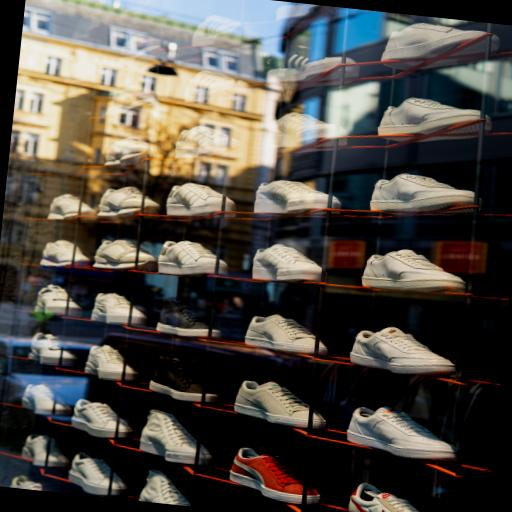shoe: (347, 407, 456, 460), (350, 328, 455, 375), (382, 23, 485, 69), (378, 98, 480, 142), (362, 250, 465, 293), (230, 448, 303, 504), (370, 174, 474, 213), (235, 381, 309, 427), (139, 410, 197, 464), (245, 315, 315, 353), (252, 244, 322, 282), (69, 453, 127, 495), (278, 112, 347, 147), (150, 356, 202, 402), (72, 399, 132, 438), (255, 181, 328, 213), (97, 187, 160, 220), (94, 240, 157, 272), (158, 241, 217, 275), (157, 299, 209, 337), (349, 484, 418, 511), (167, 183, 223, 216), (139, 470, 190, 505), (175, 126, 229, 158), (28, 333, 77, 366), (22, 435, 70, 468), (22, 384, 71, 416), (34, 285, 81, 317), (40, 240, 91, 267), (85, 345, 123, 380), (105, 136, 148, 166), (48, 194, 95, 220), (91, 293, 130, 324), (11, 476, 42, 490)
